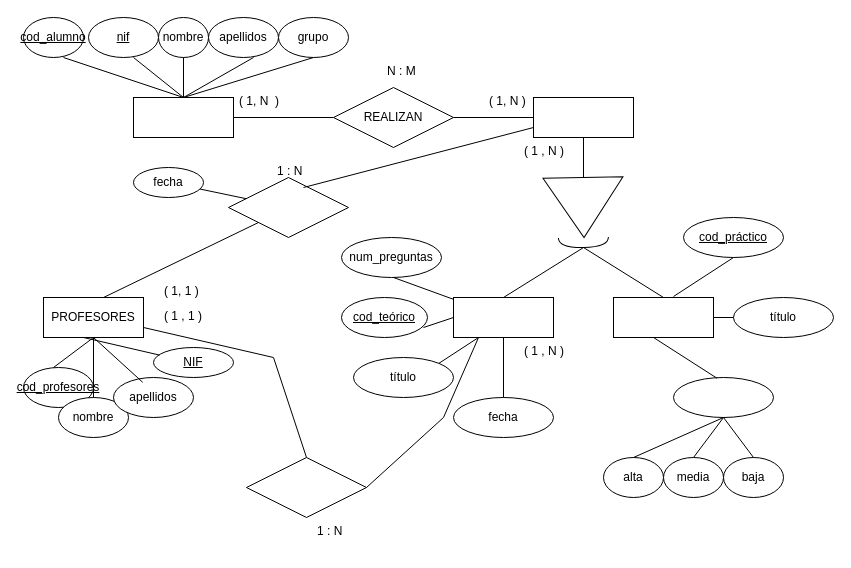
Some shapes in this 851 by 568 pixel diagram are drawn without their labels. Each missing label, with the centre of its shape:
"ALUMNOS" goes at point 183,117.
"dificultad" goes at point 723,397.
"DISEÑA" goes at point 306,487.
"PARTICIPA" goes at point 288,207.
"PRUEBAS" goes at point 583,117.
"PRÁCTICO" goes at point 663,317.
"TEÓRICO" goes at point 503,317.
